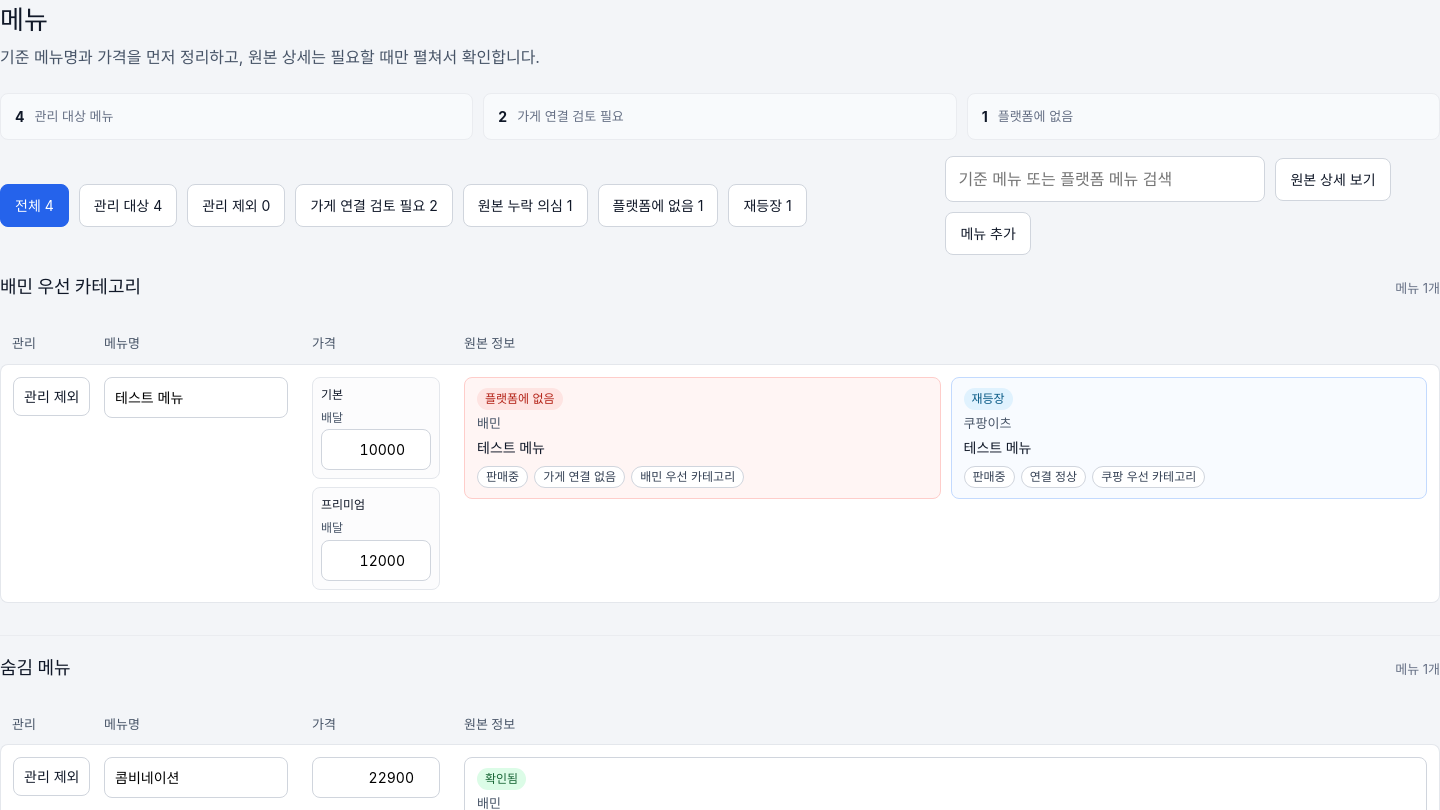
MenuPage › filters menus by the search box using base and platform menu names
Expected: the field showing "콤비네이션" is shown, [104,757,288,798]
Type "핫소스" into the search field with placeholder "기준 메뉴 또는 플랫폼 메뉴 검색" at (1105,179), box [945,156,1265,202]
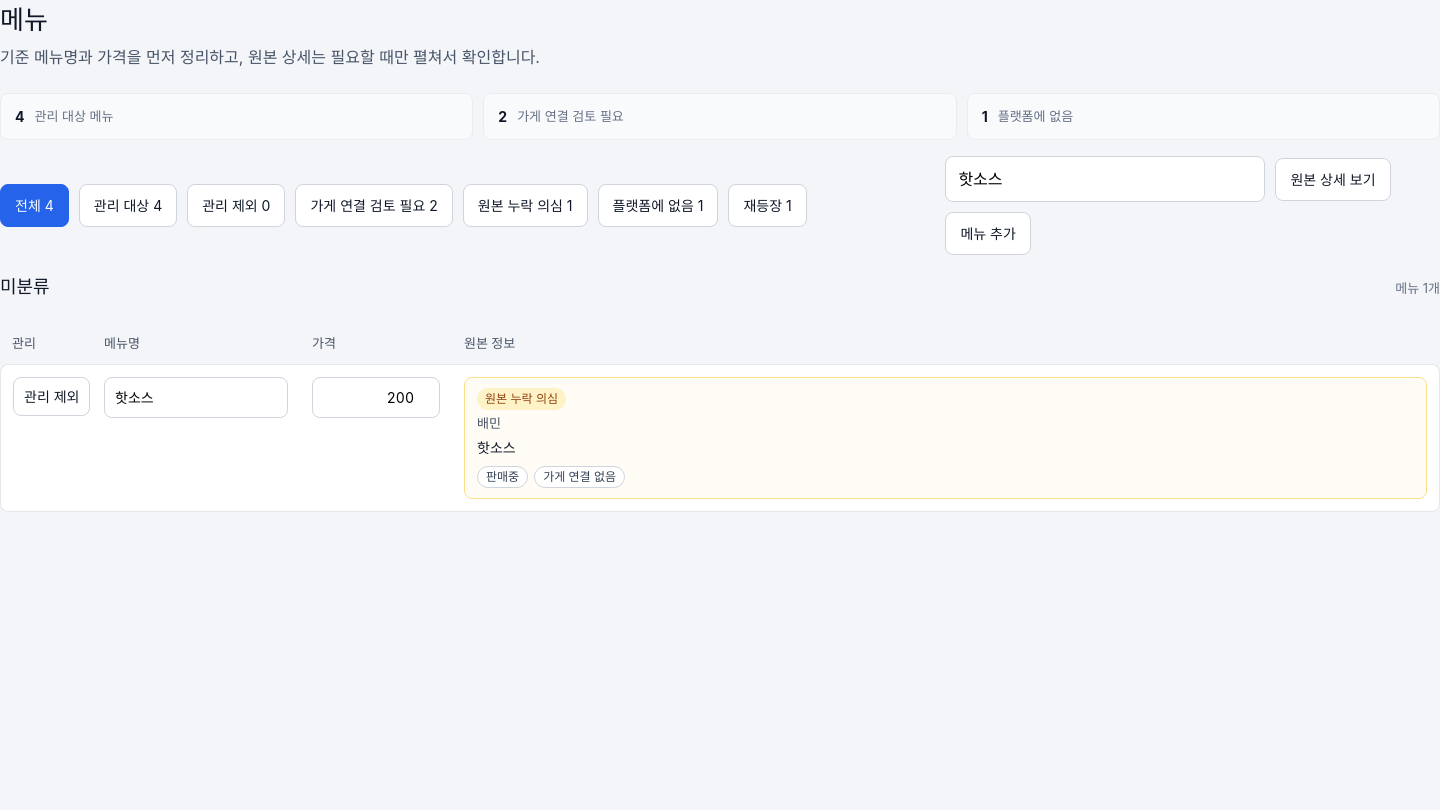
Expected: the field named "m2-name" is shown, [104,376,288,418]
Replace the text in the search field with placeholder "기준 메뉴 또는 플랫폼 메뉴 검색" with "없는 메뉴" at (1105,179), box [945,156,1265,202]
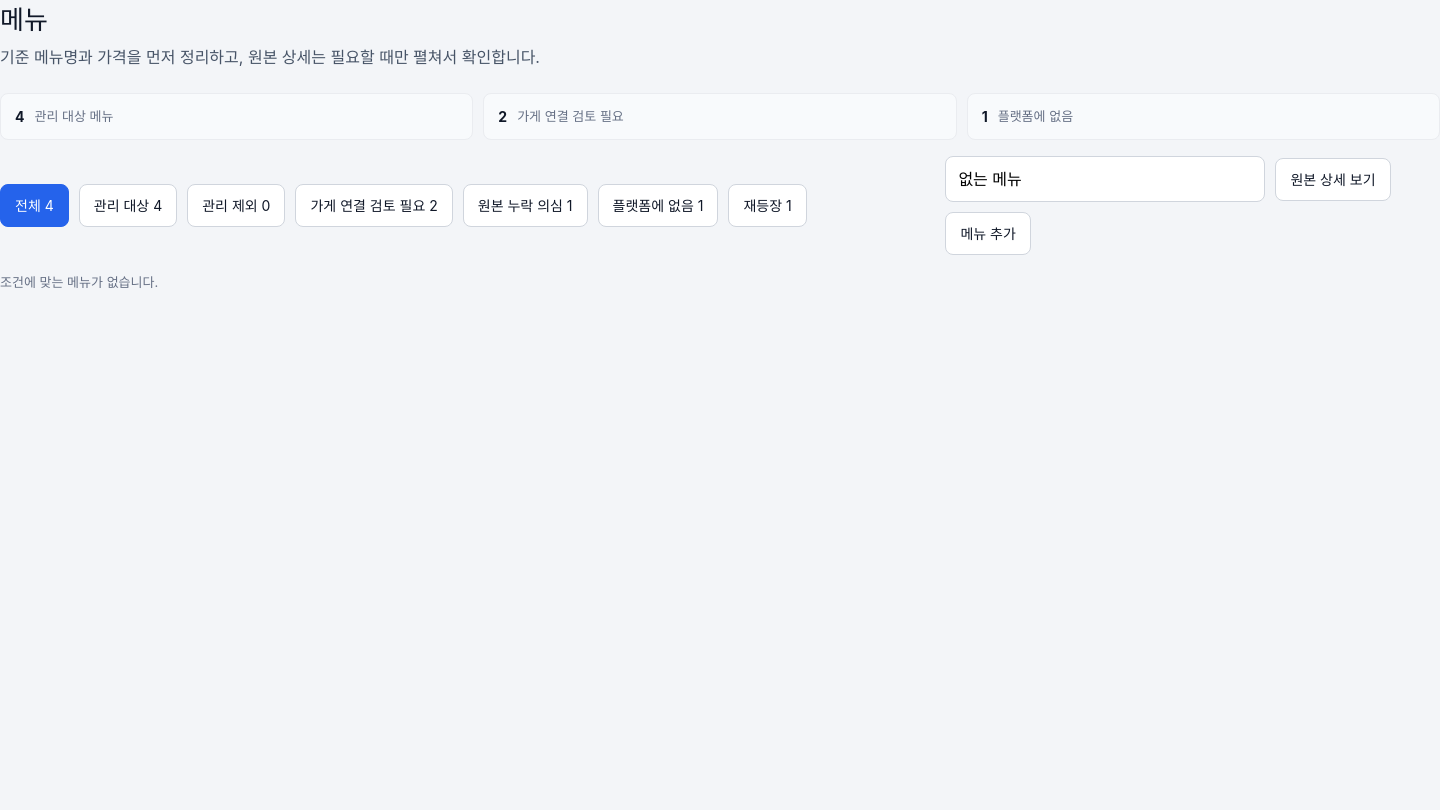
Result: the text "조건에 맞는 메뉴가 없습니다." is shown at [0,274,158,290]
